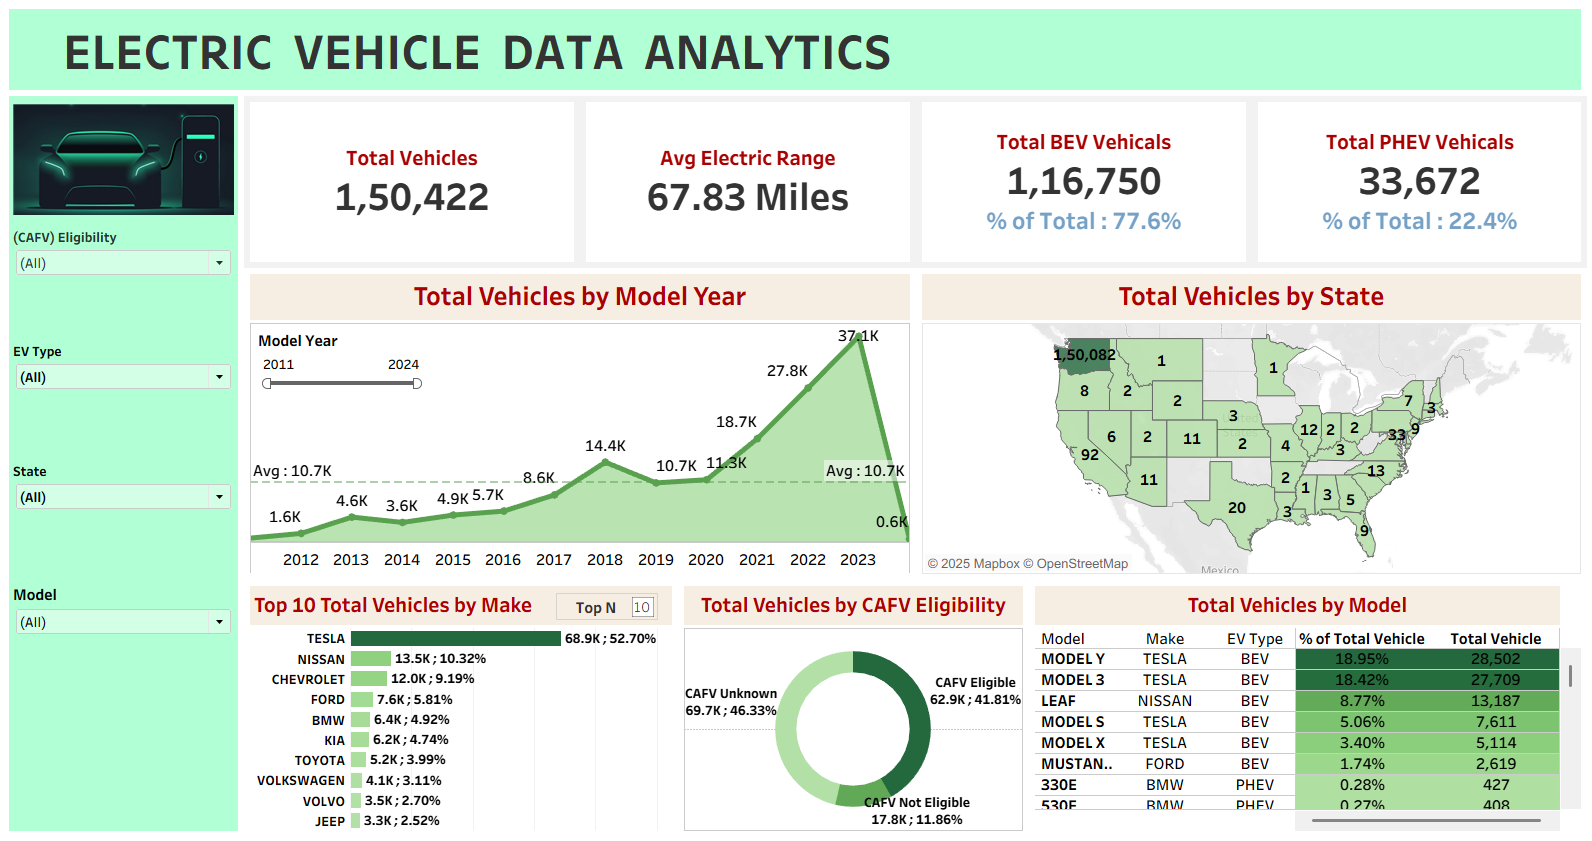

The dashboard page shown, as its layout file describes it:
{"tool":"tableau","page":{"name":"Electric Vehicle Analytics Dashboard","canvas":[1600,850],"ordinal":0},"visuals":[{"type":"title","box":[8,8,1584,93]},{"type":"image","param":"C:/Users/SAIKAT PRADHAN/Pictures/Screenshots/Screenshot 2025-10-31 170211.png","box":[14,101,229,128]},{"type":"worksheet","title":"Total Vehicles","mark":"Automatic","box":[249,101,336,172]},{"type":"worksheet","title":"Avg Electric Range","mark":"Automatic","box":[585,101,336,172]},{"type":"worksheet","title":"Total BEV Vehicals","mark":"Automatic","box":[921,101,336,172]},{"type":"worksheet","title":"Total PHEV Vehicals","mark":"Automatic","box":[1257,101,335,172]},{"type":"filter","title":"Total Vehicles by CAFV Eligibility","param":"[federated.14x98kp12v67bx19fp72l0sv7ll1].[none:Clean Alternative Fuel Vehicle (C","box":[14,229,229,114]},{"type":"worksheet","title":"Total Vehicles by Model Year","mark":"Area","rows":["Calculation_1430455832811376640","Calculation_1430455832811376640"],"cols":["Model Year"],"box":[249,273,672,312]},{"type":"worksheet","title":"Total Vehicles by State","mark":"Multipolygon","box":[921,273,671,312]},{"type":"filter","title":"Total Vehicles by Model Year","param":"[federated.14x98kp12v67bx19fp72l0sv7ll1].[none:Model Year:qk]","box":[263,335,168,73]},{"type":"filter","title":"Top 10 Total Vehicles by Make","param":"[federated.14x98kp12v67bx19fp72l0sv7ll1].[none:Electric Vehicle Type:nk]","box":[14,343,229,120]},{"type":"filter","title":"Top 10 Total Vehicles by Make","param":"[federated.14x98kp12v67bx19fp72l0sv7ll1].[none:State:nk]","box":[14,463,229,122]},{"type":"filter","title":"Total Vehicles by Model","param":"[federated.14x98kp12v67bx19fp72l0sv7ll1].[none:Model:nk]","box":[14,585,229,129]},{"type":"worksheet","title":"Top 10 Total Vehicles by Make","mark":"Automatic","rows":["Make"],"cols":["Calculation_1430455832811376640"],"box":[249,585,434,257]},{"type":"worksheet","title":"Total Vehicles by CAFV Eligibility","mark":"Pie","rows":["Calculation_1430455832835321863","Calculation_1430455832835321863"],"box":[683,585,351,257]},{"type":"worksheet","title":"Total Vehicles by Model","mark":"Square","rows":["Model","Make","Electric Vehicle Type"],"box":[1034,585,558,257]},{"type":"parameter","param":"[Parameters].[Parameter 1]","box":[561,598,102,27]}]}

Visuals, with their boxes in screenshot pixels (x1, y1, x2, y2), scaled from the page's 1600x850 canvas onto the 1592x841 screenshot:
title: [8,8,1584,100]
image: [14,100,242,227]
"Total Vehicles" worksheet: [248,100,582,270]
"Avg Electric Range" worksheet: [582,100,916,270]
"Total BEV Vehicals" worksheet: [916,100,1251,270]
"Total PHEV Vehicals" worksheet: [1251,100,1584,270]
"Total Vehicles by CAFV Eligibility" filter: [14,227,242,339]
"Total Vehicles by Model Year" worksheet (Area marks): [248,270,916,579]
"Total Vehicles by State" worksheet (Multipolygon marks): [916,270,1584,579]
"Total Vehicles by Model Year" filter: [262,331,429,404]
"Top 10 Total Vehicles by Make" filter: [14,339,242,458]
"Top 10 Total Vehicles by Make" filter: [14,458,242,579]
"Total Vehicles by Model" filter: [14,579,242,706]
"Top 10 Total Vehicles by Make" worksheet: [248,579,680,833]
"Total Vehicles by CAFV Eligibility" worksheet (Pie marks): [680,579,1029,833]
"Total Vehicles by Model" worksheet (Square marks): [1029,579,1584,833]
parameter: [558,592,660,618]
